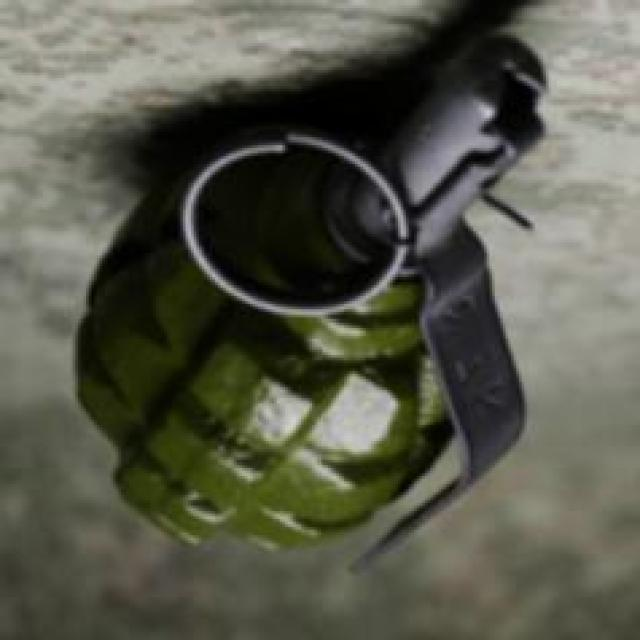grenade: (82, 33, 544, 574)
